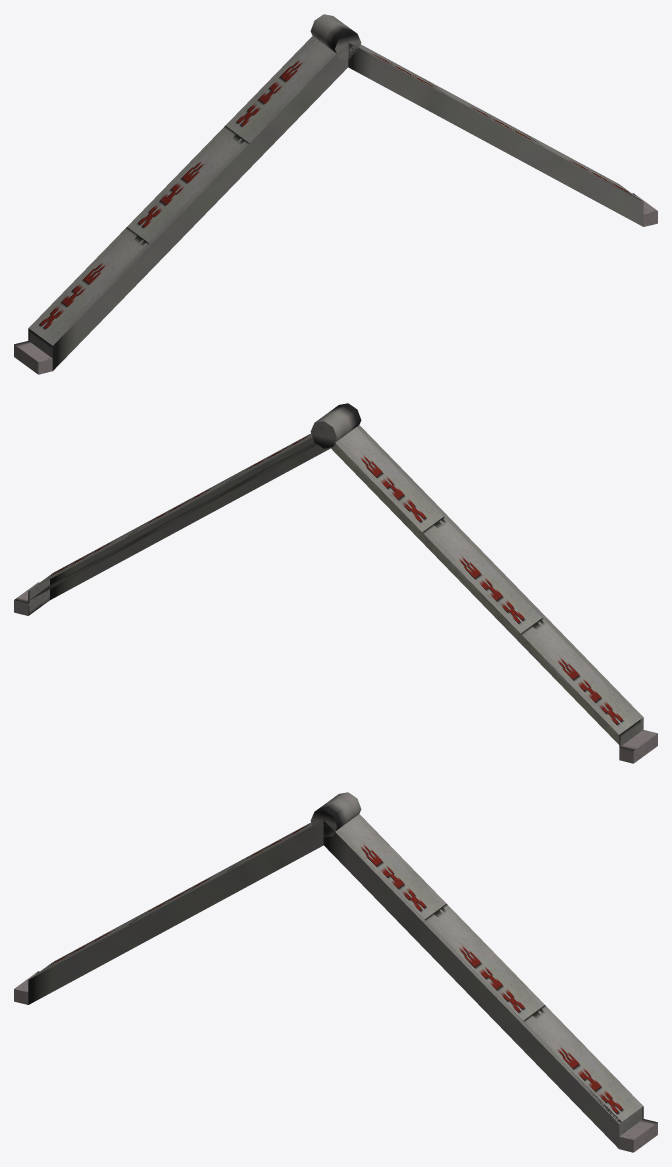
File: roof_clay_verge.fbx
3 views of the same model, one above another, from view 1: azimuth 30°, elevation 25°; view 2: azimuth 150°, elevation 25°; view 3: azimuth 330°, elevation 25° (orthographic).
Parts seen in each view (by area): view 1: roof_clay_verge; view 2: roof_clay_verge; view 3: roof_clay_verge.
Boxes of the visible parts, x1,y1,x2,y2 form: roof_clay_verge: [14, 14, 657, 374]; roof_clay_verge: [14, 403, 657, 763]; roof_clay_verge: [14, 792, 657, 1152].
Bounding box in the file's own units: 5.14 × 2.12 × 0.35.
